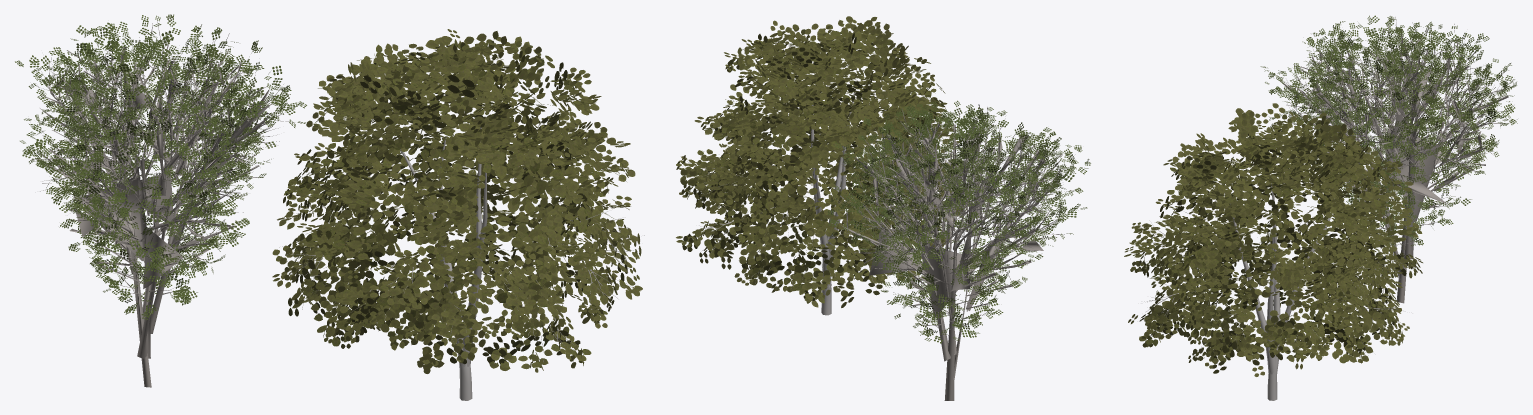
The picture shows the model from 3 angles, left to right: view 1: azimuth 30°, elevation 25°; view 2: azimuth 150°, elevation 25°; view 3: azimuth 270°, elevation 25°; orthographic projection. The views are drawn at different scales.
Parts seen in each view (by area): view 1: NTx_RedMaple_0072, NTx_RedMaple_0069; view 2: NTx_RedMaple_0072, NTx_RedMaple_0069; view 3: NTx_RedMaple_0072, NTx_RedMaple_0069.
Part boxes in pixels (left/top/right/bottom): NTx_RedMaple_0072: left=272, top=29, right=644, bottom=400; NTx_RedMaple_0069: left=15, top=14, right=306, bottom=387; NTx_RedMaple_0072: left=676, top=16, right=974, bottom=315; NTx_RedMaple_0069: left=827, top=100, right=1090, bottom=400; NTx_RedMaple_0072: left=1124, top=103, right=1422, bottom=400; NTx_RedMaple_0069: left=1260, top=15, right=1517, bottom=303.
Size of the model in its own units: 10.99 by 7.07 by 9.28.
4 materials, 2 textured.
